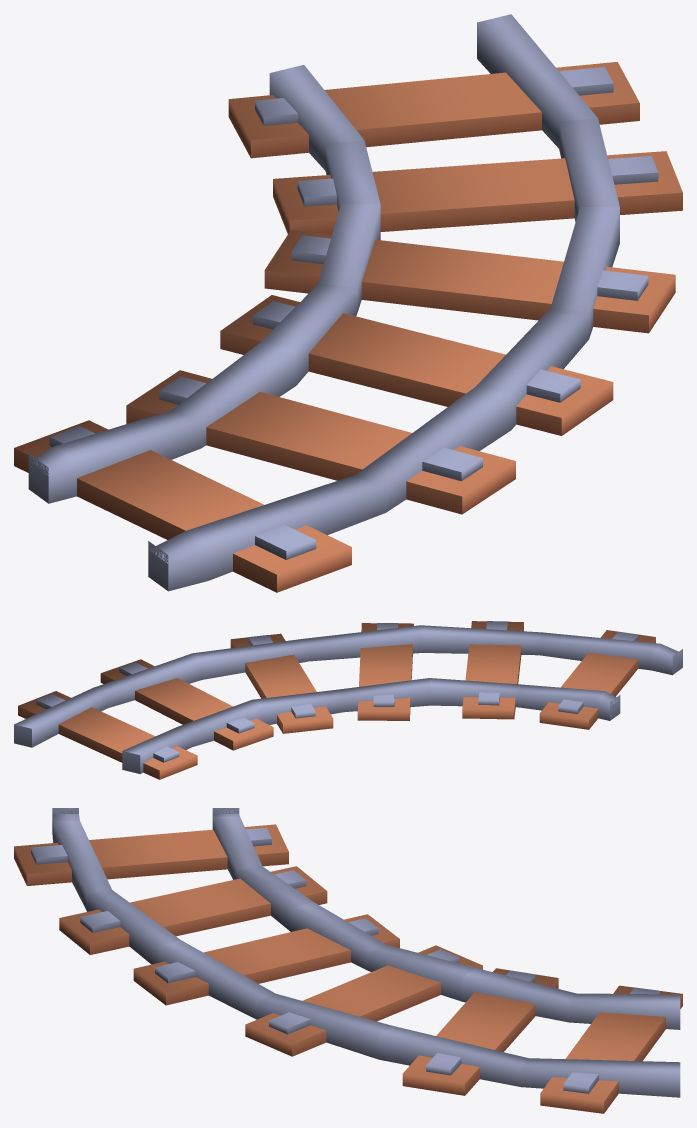
File: railroad-damaged-corner-small.glb
3 views of the same model, one above another, from view 1: azimuth 30°, elevation 25°; view 2: azimuth 150°, elevation 25°; view 3: azimuth 270°, elevation 25° (orthographic). The views are drawn at different scales.
Visible parts, largest first — view 1: railroad-damaged-corner-small; view 2: railroad-damaged-corner-small; view 3: railroad-damaged-corner-small.
Boxes of the visible parts, x1,y1,x2,y2 form: railroad-damaged-corner-small: (14,14,682,592); railroad-damaged-corner-small: (14,621,682,779); railroad-damaged-corner-small: (14,808,682,1113).
Size of the model in its own units: 2.49 by 0.1 by 2.5.
